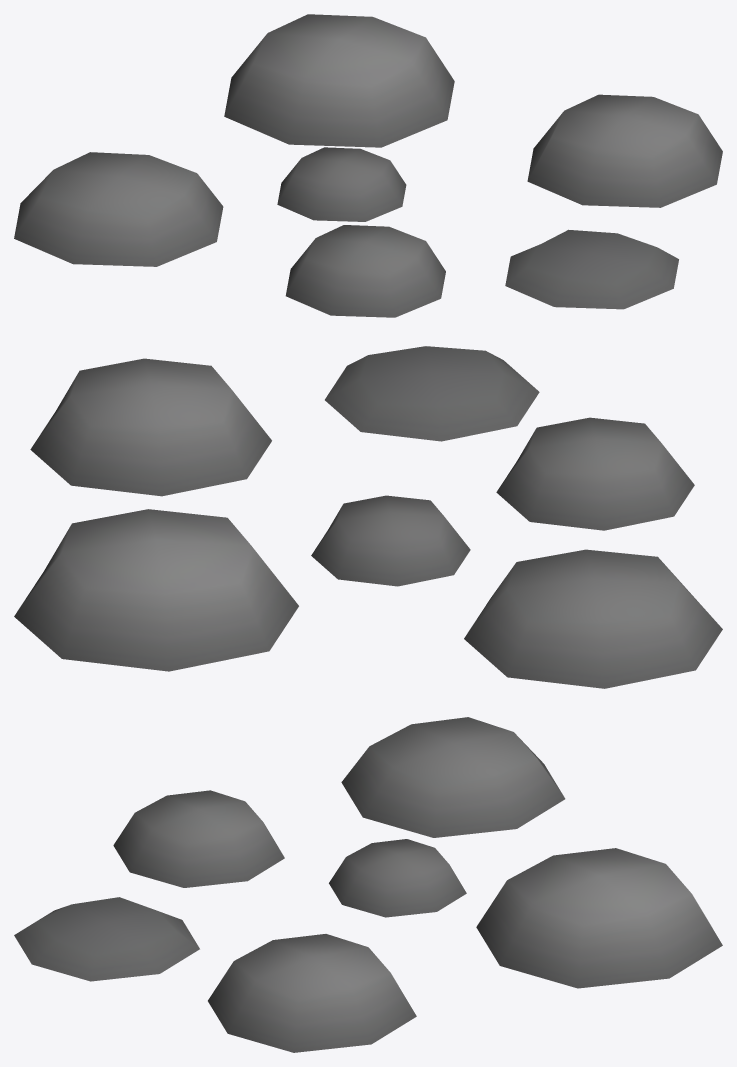
The model's file is Pebles_1_B_2_.fbx.
The picture shows the model from 3 angles, top to bottom: view 1: azimuth 30°, elevation 25°; view 2: azimuth 150°, elevation 25°; view 3: azimuth 270°, elevation 25°; orthographic projection. The views are drawn at different scales.
Parts seen in each view (by area): view 1: Pebles_1_B_2; view 2: Pebles_1_B_2; view 3: Pebles_1_B_2.
Boxes of the visible parts, left/top/right/bottom form: Pebles_1_B_2: left=14, top=14, right=722, bottom=317; Pebles_1_B_2: left=14, top=346, right=722, bottom=688; Pebles_1_B_2: left=14, top=717, right=722, bottom=1052.
Bounding box in the file's own units: 129 × 11.78 × 125.
